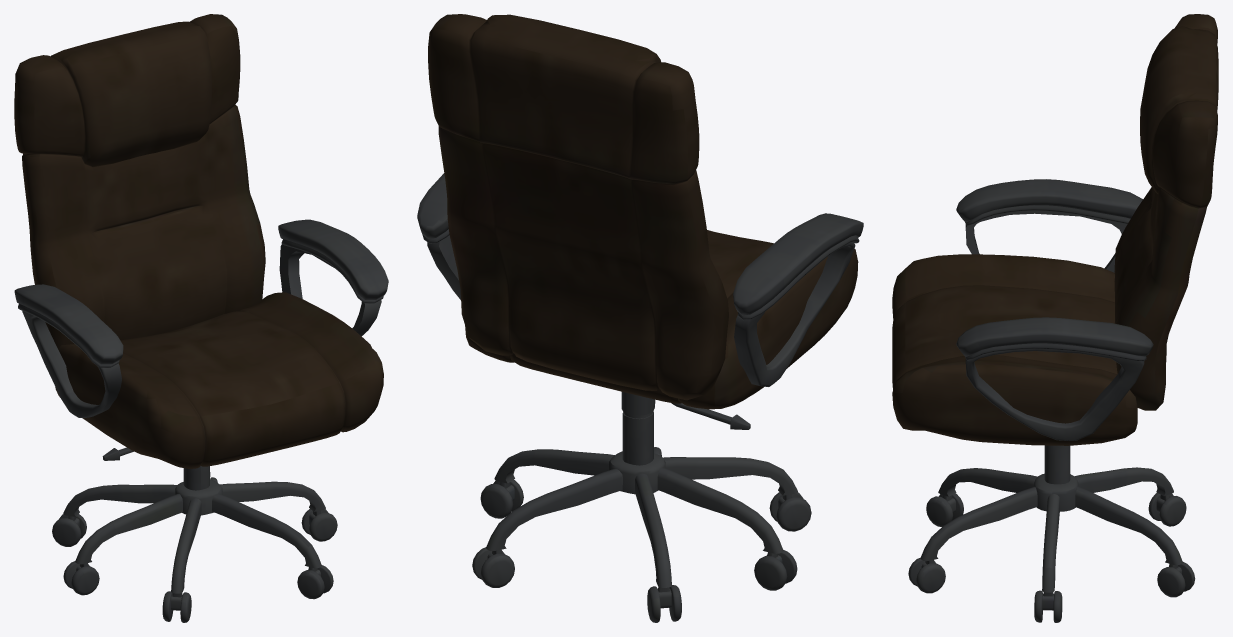
The model's file is chair-exec2.glb.
3 renders of one model, left to right at view 1: azimuth 30°, elevation 25°; view 2: azimuth 150°, elevation 25°; view 3: azimuth 270°, elevation 25°, orthographic. The views are drawn at different scales.
Parts seen in each view (by area): view 1: SM_Sandalye_2.001_1; view 2: SM_Sandalye_2.001_1; view 3: SM_Sandalye_2.001_1.
Boxes of the visible parts, box(x1,y1,x2,y2) form: SM_Sandalye_2.001_1: box(14, 14, 388, 622); SM_Sandalye_2.001_1: box(417, 14, 863, 622); SM_Sandalye_2.001_1: box(892, 14, 1218, 622).
Size of the model in its own units: 0.7911 by 1.2 by 0.7079.
1 material, 1 textured.
